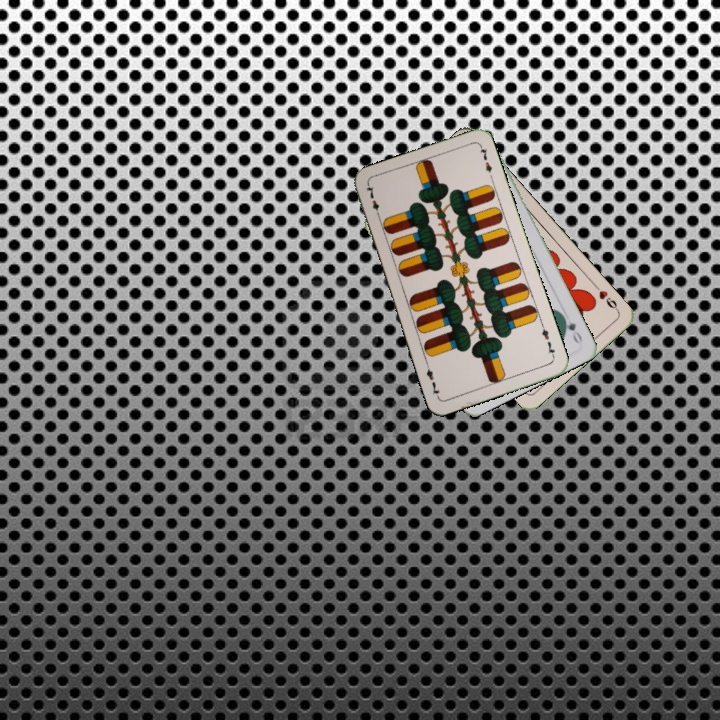E7: (362, 181, 383, 221), (538, 321, 558, 361)
GO: (558, 310, 585, 347)
H9: (591, 281, 621, 314)
